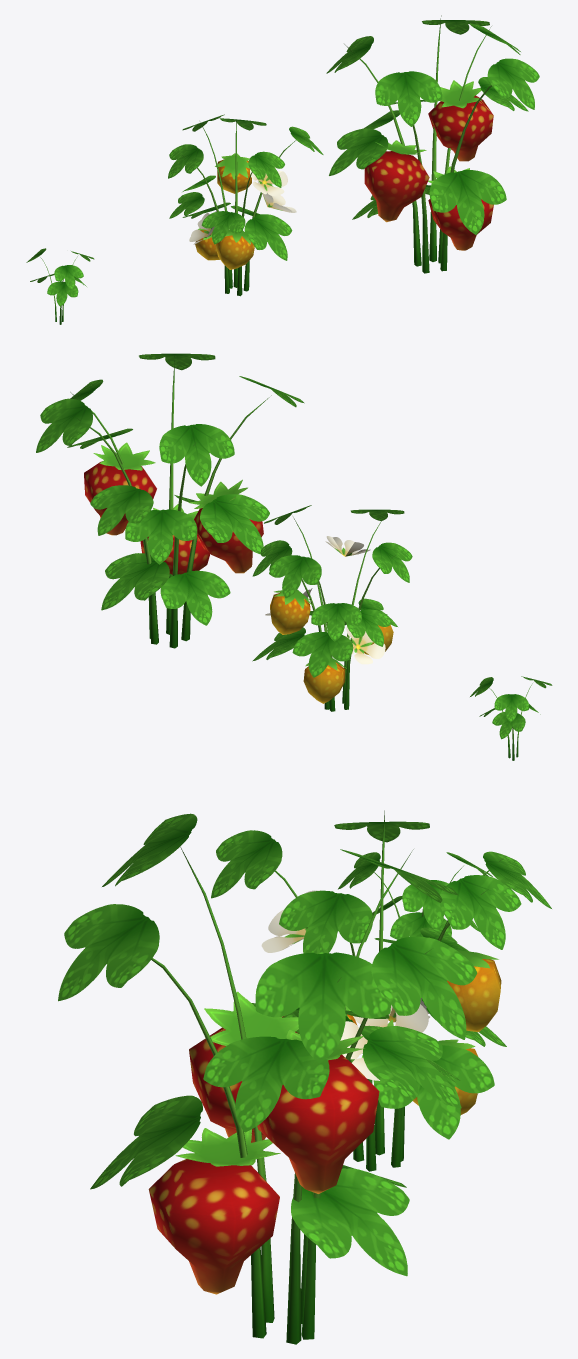
The model's file is Strawberry_Lv.FBX.
The picture shows the model from 3 angles, top to bottom: view 1: azimuth 30°, elevation 25°; view 2: azimuth 150°, elevation 25°; view 3: azimuth 270°, elevation 25°; orthographic projection. The views are drawn at different scales.
Parts seen in each view (by area): view 1: Strawberry_Lv3, Strawberry_Lv2, Strawberry_Lv1; view 2: Strawberry_Lv3, Strawberry_Lv2, Strawberry_Lv1; view 3: Strawberry_Lv3, Strawberry_Lv2, Strawberry_Lv1.
Boxes of the visible parts, left/top/right/bottom form: Strawberry_Lv3: left=326, top=15, right=539, bottom=273; Strawberry_Lv2: left=168, top=114, right=323, bottom=296; Strawberry_Lv1: left=26, top=248, right=94, bottom=324; Strawberry_Lv3: left=36, top=353, right=304, bottom=648; Strawberry_Lv2: left=252, top=505, right=412, bottom=711; Strawberry_Lv1: left=470, top=676, right=552, bottom=760; Strawberry_Lv3: left=58, top=813, right=477, bottom=1344; Strawberry_Lv2: left=211, top=810, right=551, bottom=1171; Strawberry_Lv1: left=338, top=852, right=492, bottom=939.
Size of the model in its own units: 236 by 108 by 117.
